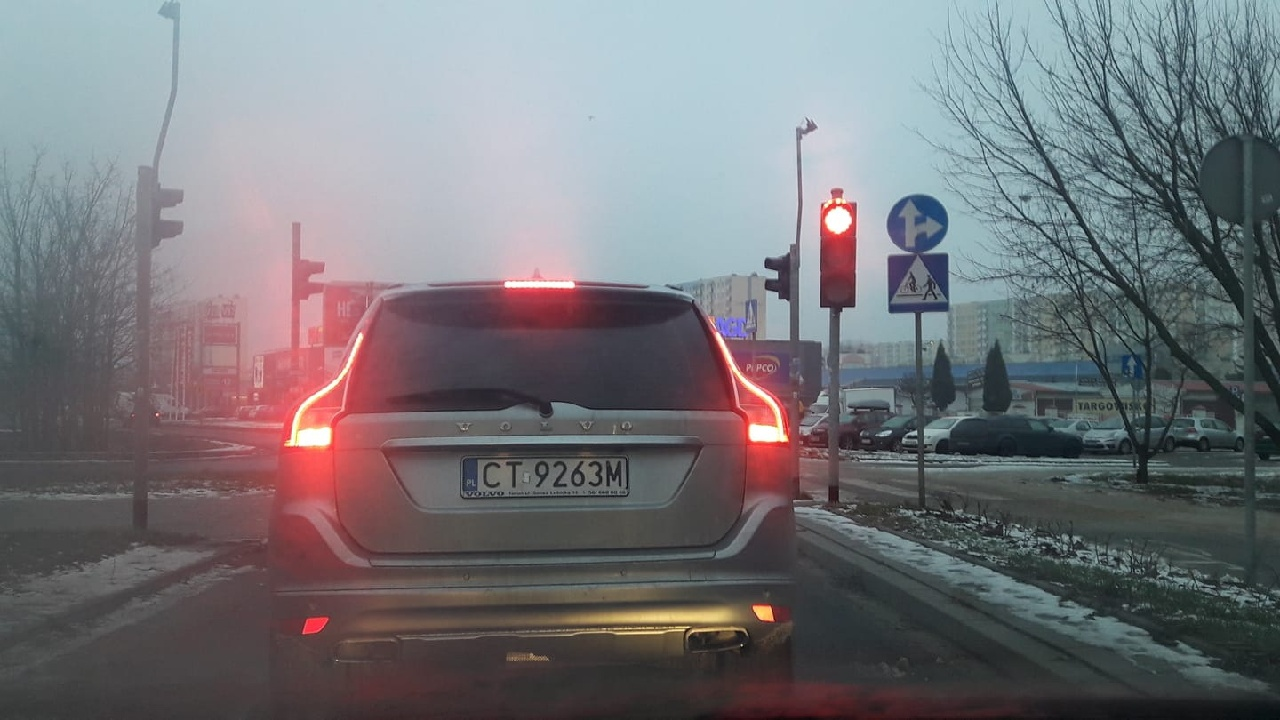C6: (887, 193, 950, 252)
D6b: (887, 254, 950, 312)
Red: (820, 202, 855, 306)
